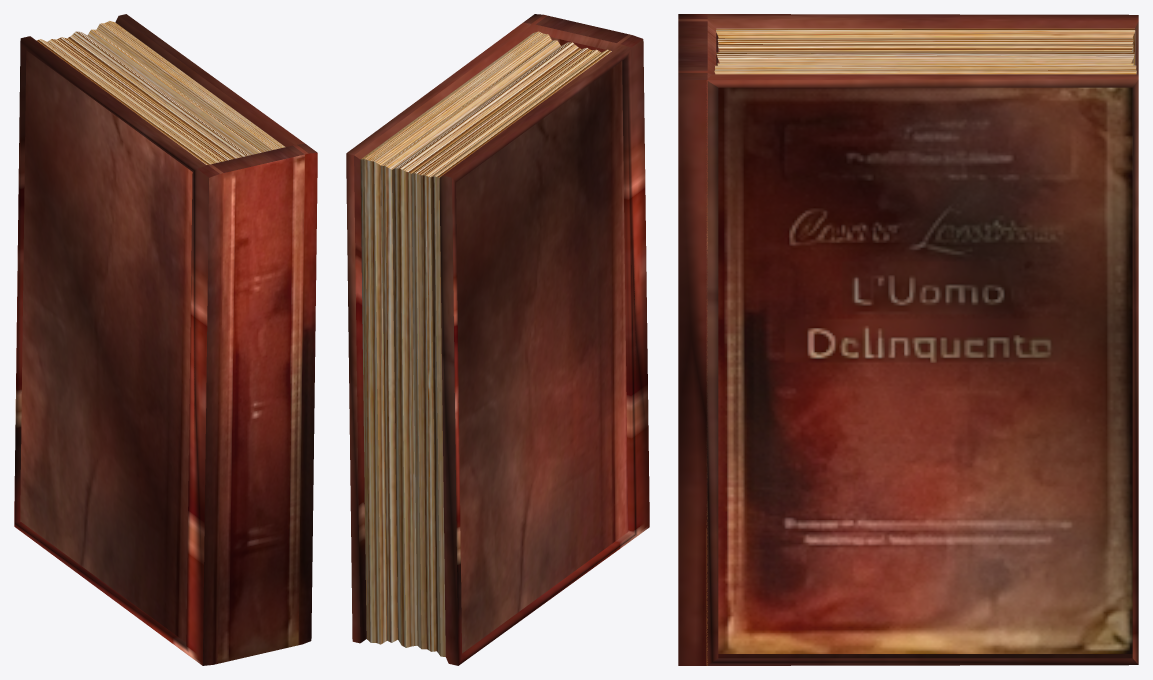
File: LibroLombrosoOR.fbx
The picture shows the model from 3 angles, left to right: view 1: azimuth 30°, elevation 25°; view 2: azimuth 150°, elevation 25°; view 3: azimuth 270°, elevation 25°; orthographic projection. The views are drawn at different scales.
Parts seen in each view (by area): view 1: librocopertina; view 2: librocopertina; view 3: librocopertina.
Boxes of the visible parts, <box> form: librocopertina: <box>14,14,317,665</box>; librocopertina: <box>346,14,649,665</box>; librocopertina: <box>678,14,1138,665</box>.
Bounding box in the file's own units: 7.44 × 30.34 × 21.31.
2 materials, 2 textured.
